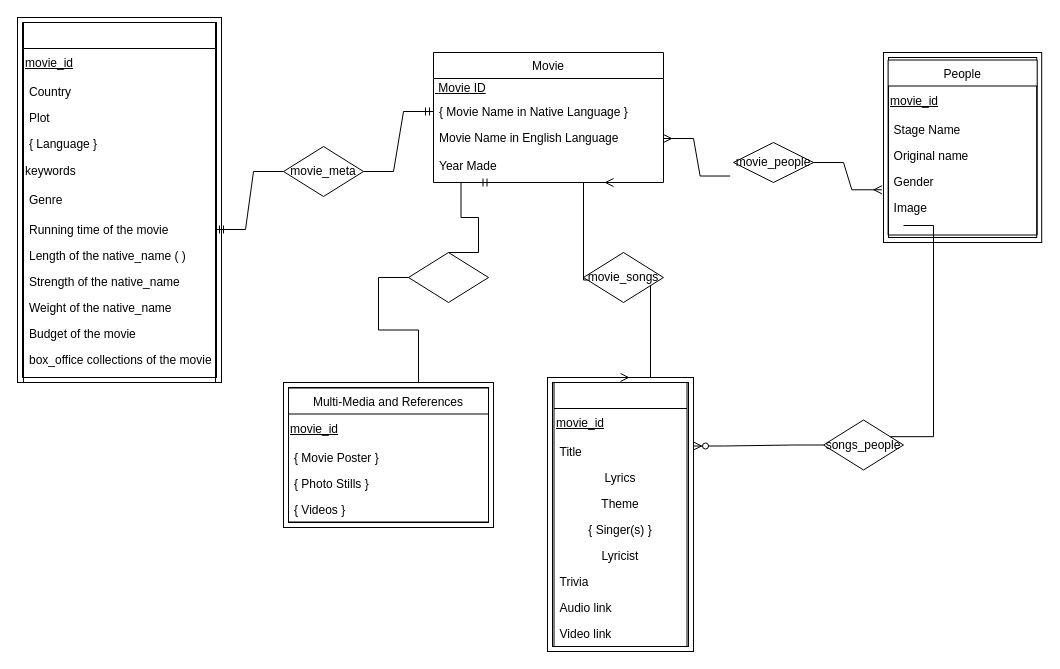
The diagram is 1060 pixels wide and 669 high, and some of its shapes have lost their labels. Here are the shapes that lost their labels. From the top down, the box of each, then its label:
(22, 22, 216, 382): Meta data of the movie
(408, 252, 488, 302): movie_media
(553, 382, 687, 646): Songs
